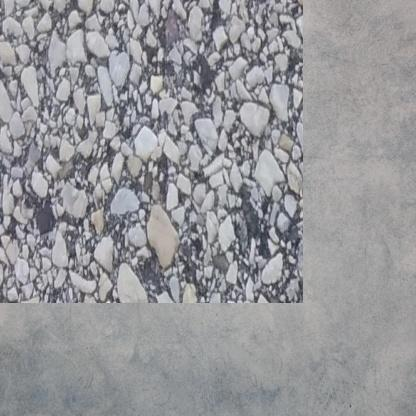Cracks: (0, 260, 22, 280)
